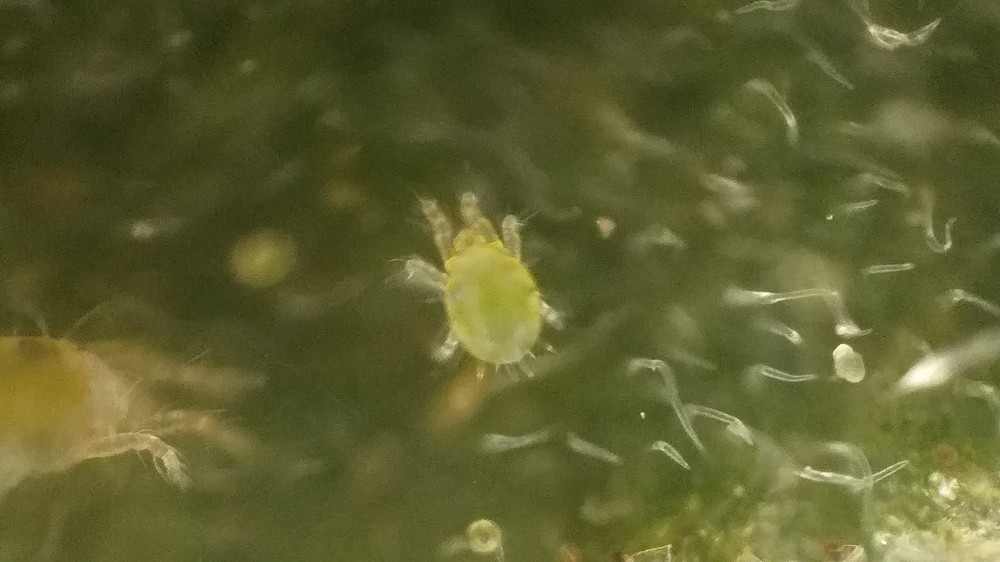Aracnido Rojo: (3, 274, 289, 517), (385, 174, 599, 413)
